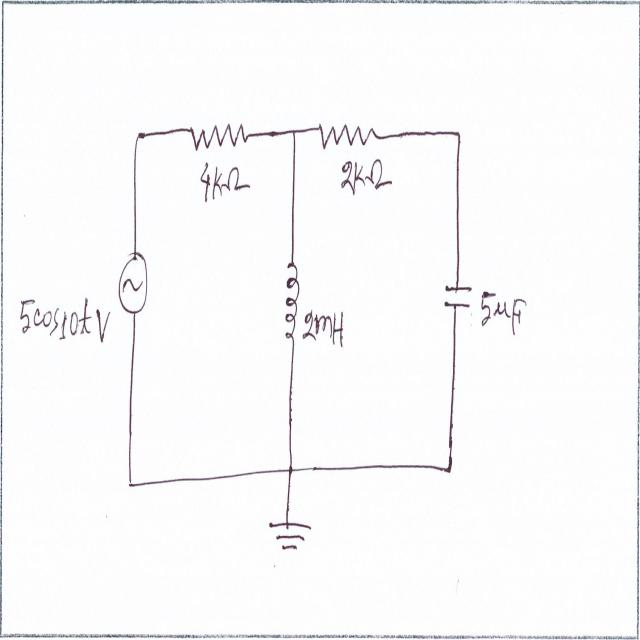ac_current: (116, 247, 150, 318)
capacitor: (442, 277, 475, 314)
ground: (266, 514, 316, 560)
inductor: (284, 258, 302, 348)
resistor: (191, 115, 250, 157), (316, 120, 380, 154)
